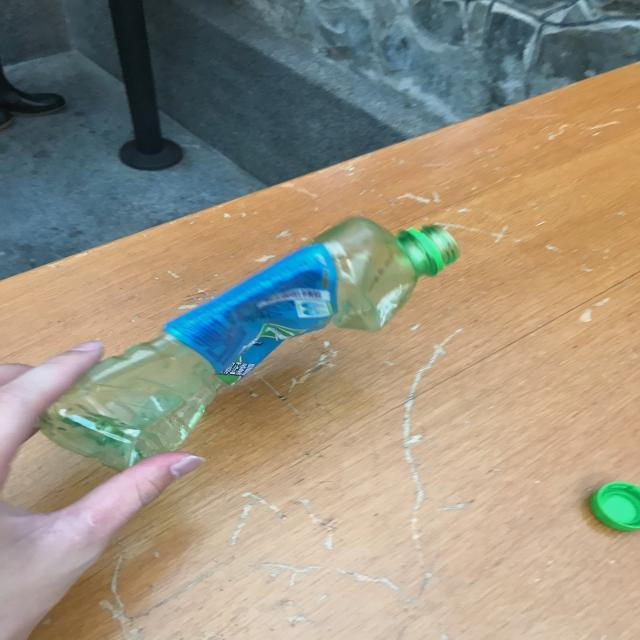plastic_bottle: (38, 215, 460, 474), (561, 452, 640, 556)
